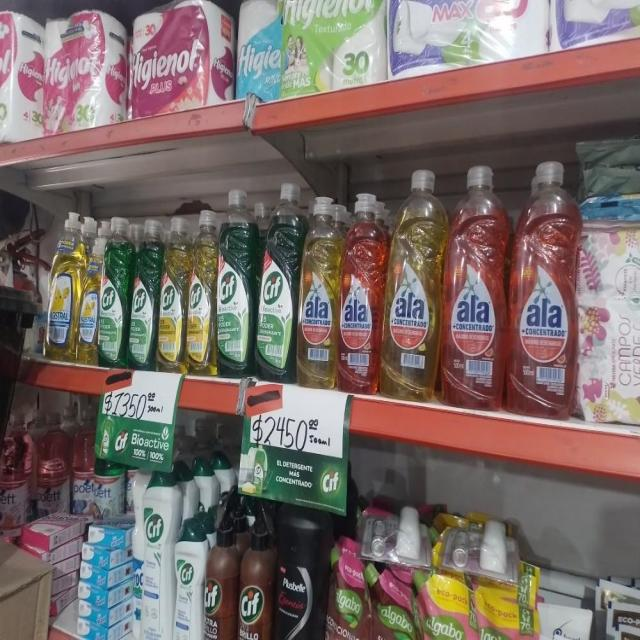ala_conc_amarillo: (385, 163, 442, 405), (298, 192, 338, 388)
ala_conc_rojo: (509, 158, 575, 420), (442, 162, 507, 411), (339, 189, 383, 394)
cif_conc_bot_amarilla: (188, 206, 215, 374), (158, 213, 186, 372)
cif_conc_botella_verde: (256, 182, 296, 382), (216, 185, 254, 378), (128, 216, 157, 369), (99, 215, 128, 367)
magistral_con_amarillo: (47, 210, 79, 363), (79, 213, 99, 364)
